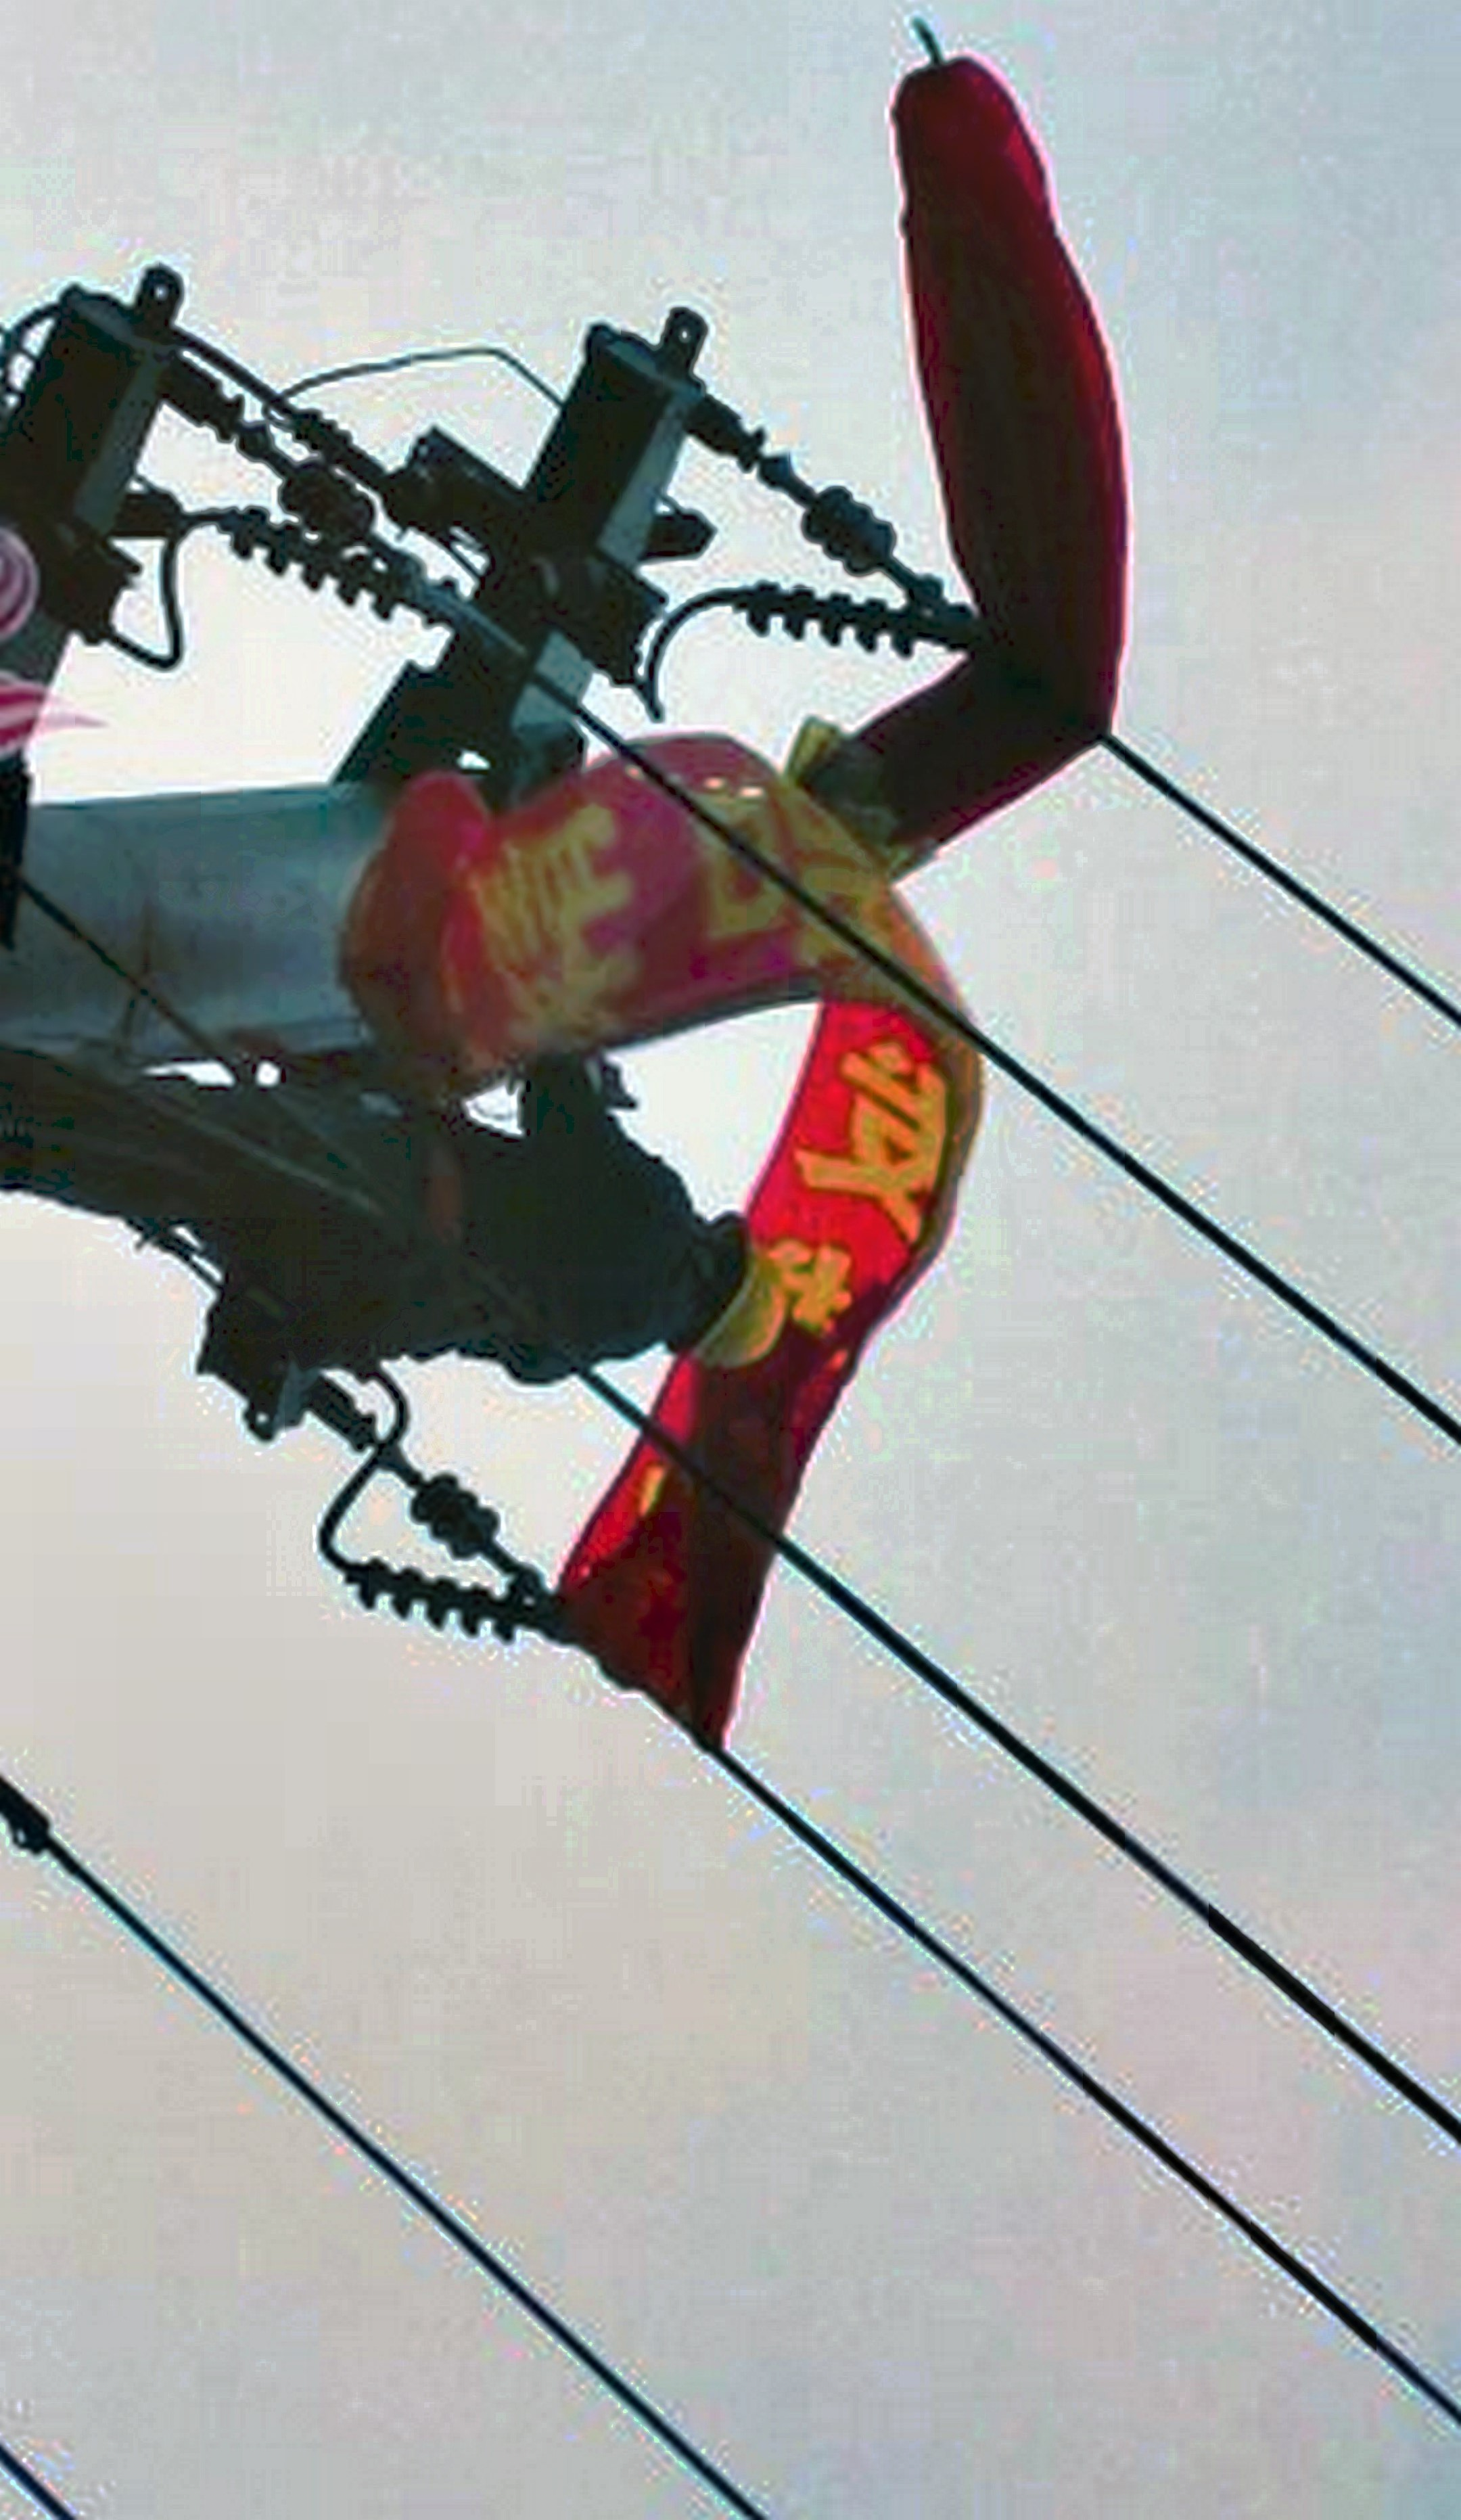wire foreign body: (311, 54, 1202, 1784)
